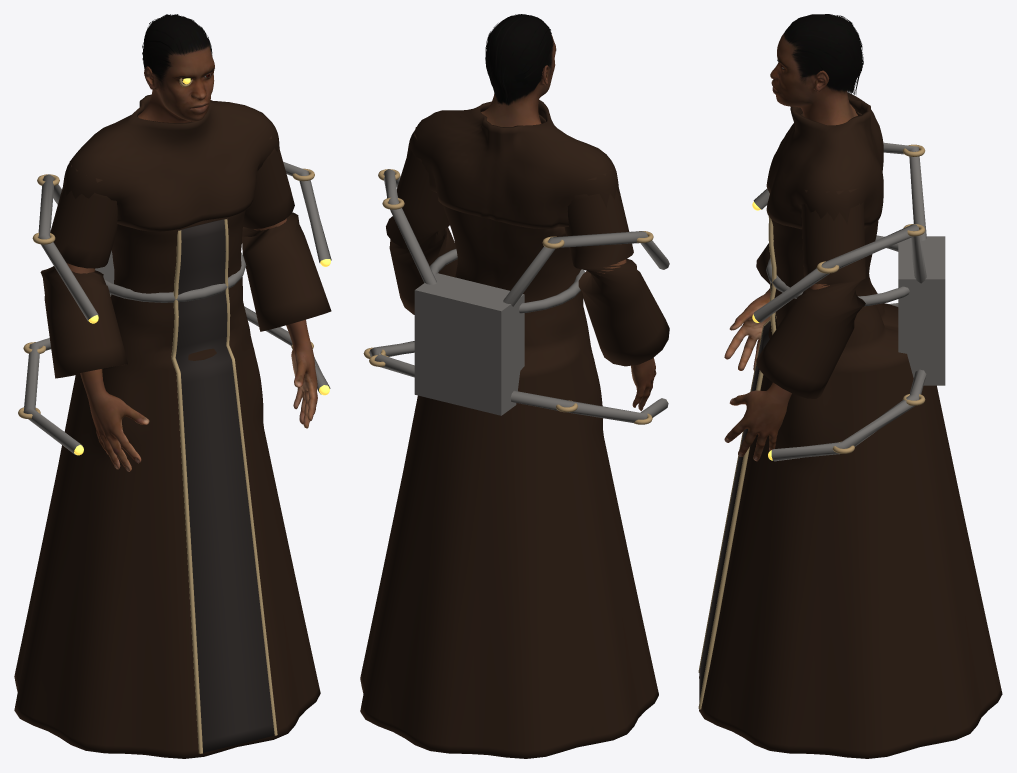
The model's file is crew_traffic_lead.glb.
3 renders of one model, left to right at view 1: azimuth 30°, elevation 25°; view 2: azimuth 150°, elevation 25°; view 3: azimuth 270°, elevation 25°, orthographic. The views are drawn at different scales.
Visible parts, largest first — view 1: robe, tabard, mantle, sleeve.001, Human, sleeve, Human.short04, tabard_edge, dendrite.001, tabard_edge.001, dendrite.003, belt (+2 smaller); view 2: robe, mantle, engine, sleeve.001, sleeve, Human.short04, Human, dendrite.001, dendrite.003, dendrite, belt, dendrite.002; view 3: robe, sleeve, mantle, Human, engine, Human.short04, dendrite, dendrite.002, tabard_edge.001, tabard, dendrite.001, belt (+1 smaller).
Part boxes in pixels (left/top/right/bottom): robe: left=14, top=100, right=320, bottom=758; tabard: left=175, top=219, right=274, bottom=752; mantle: left=61, top=94, right=279, bottom=231; sleeve.001: left=40, top=161, right=127, bottom=378; Human: left=66, top=45, right=317, bottom=471; sleeve: left=242, top=129, right=331, bottom=331; Human.short04: left=142, top=14, right=212, bottom=88; tabard_edge: left=171, top=230, right=202, bottom=753; dendrite.001: left=38, top=174, right=98, bottom=321; tabard_edge.001: left=224, top=219, right=277, bottom=735; dendrite.003: left=23, top=338, right=82, bottom=455; belt: left=104, top=252, right=246, bottom=302; robe: left=360, top=114, right=658, bottom=758; mantle: left=406, top=99, right=618, bottom=228; engine: left=414, top=273, right=524, bottom=415; sleeve.001: left=564, top=169, right=669, bottom=366; sleeve: left=386, top=127, right=457, bottom=314; Human.short04: left=485, top=14, right=553, bottom=105; Human: left=481, top=34, right=656, bottom=410; dendrite.001: left=503, top=231, right=669, bottom=306; dendrite.003: left=510, top=390, right=668, bottom=422; dendrite: left=383, top=169, right=436, bottom=284; belt: left=430, top=249, right=584, bottom=313; dendrite.002: left=369, top=341, right=414, bottom=377; robe: left=699, top=95, right=1002, bottom=758; sleeve: left=756, top=188, right=865, bottom=398; mantle: left=766, top=92, right=883, bottom=229; Human: left=724, top=33, right=857, bottom=461; engine: left=898, top=236, right=945, bottom=385; Human.short04: left=784, top=14, right=863, bottom=95; dendrite: left=753, top=224, right=926, bottom=322; dendrite.002: left=771, top=369, right=926, bottom=461; tabard_edge.001: left=698, top=217, right=776, bottom=709; tabard: left=699, top=239, right=775, bottom=701; dendrite.001: left=753, top=142, right=926, bottom=240; belt: left=766, top=235, right=909, bottom=306.
Bounding box in the file's own units: 0.858 × 1.93 × 0.7781.
11 materials, 5 textured.
